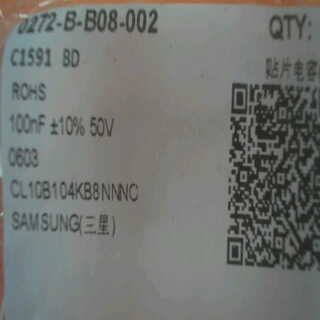100nF: (7, 109, 50, 141)
